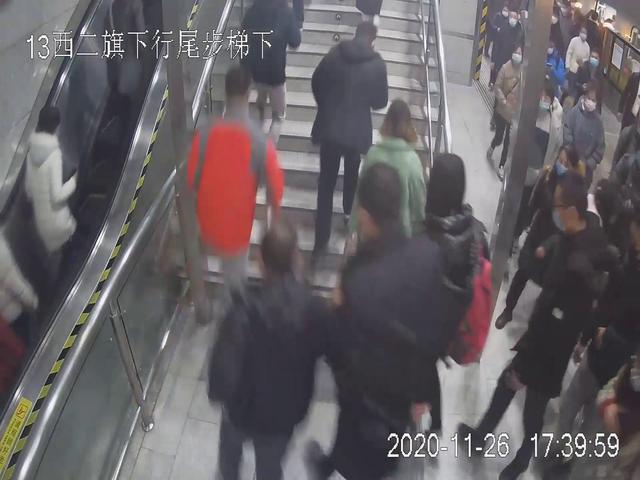person: (470, 179, 606, 474), (320, 162, 446, 473), (211, 221, 319, 469), (183, 61, 285, 312), (416, 145, 497, 429), (306, 19, 392, 256), (14, 106, 81, 293), (560, 84, 616, 207), (487, 41, 533, 175)
